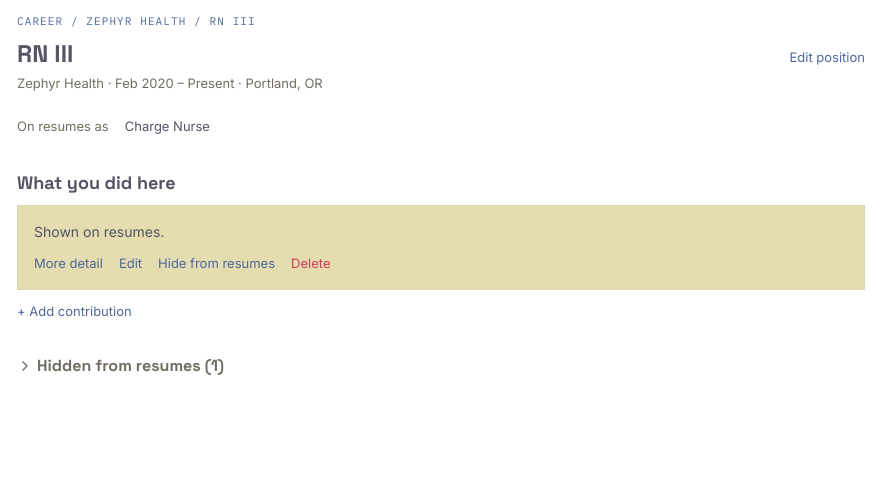
CareerPosition › folds hidden contributions under their own heading
Expected: the text "Shown on resumes." is shown, [34, 222, 164, 240]
Expected: the text "Kept but hidden." is not shown
Click the button "Hidden from resumes (1)".
click(121, 366)  # box [17, 354, 224, 378]
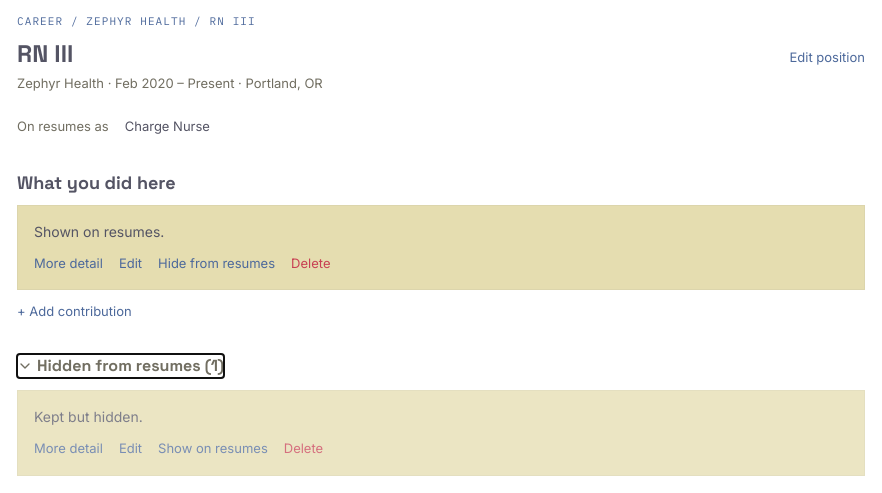
Expected: the text "Kept but hidden." is shown, [34, 408, 143, 425]
